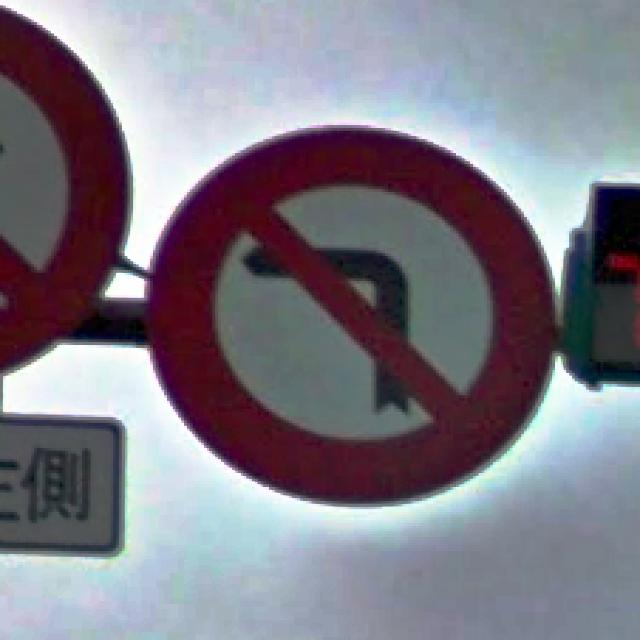noturnleft: (141, 120, 558, 507)
